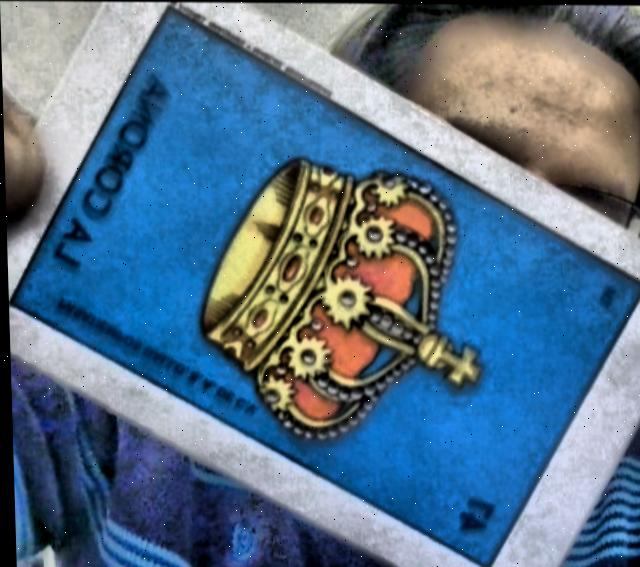La Corona: (9, 6, 640, 567)
